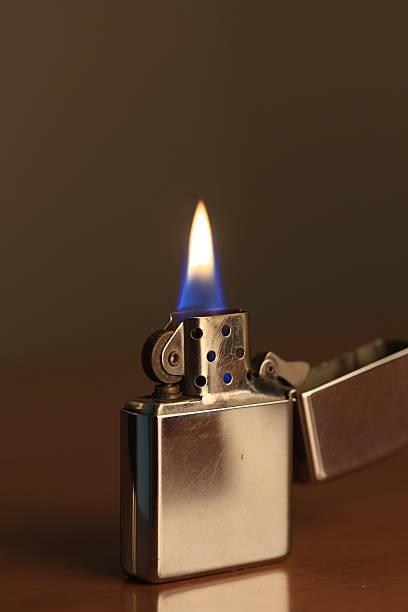Fire: (178, 198, 229, 312)
